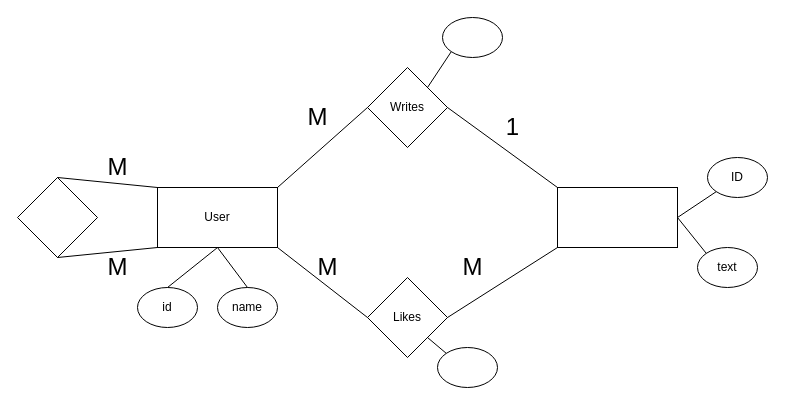
This 785x405 diagram has some shape labels left out. The centre of each missing label's shape, as x and y in pixels:
"Follows" goes at pixel 57 217.
"l_date" goes at pixel 467 367.
"Tweet" goes at pixel 617 217.
"w_date" goes at pixel 472 37.
